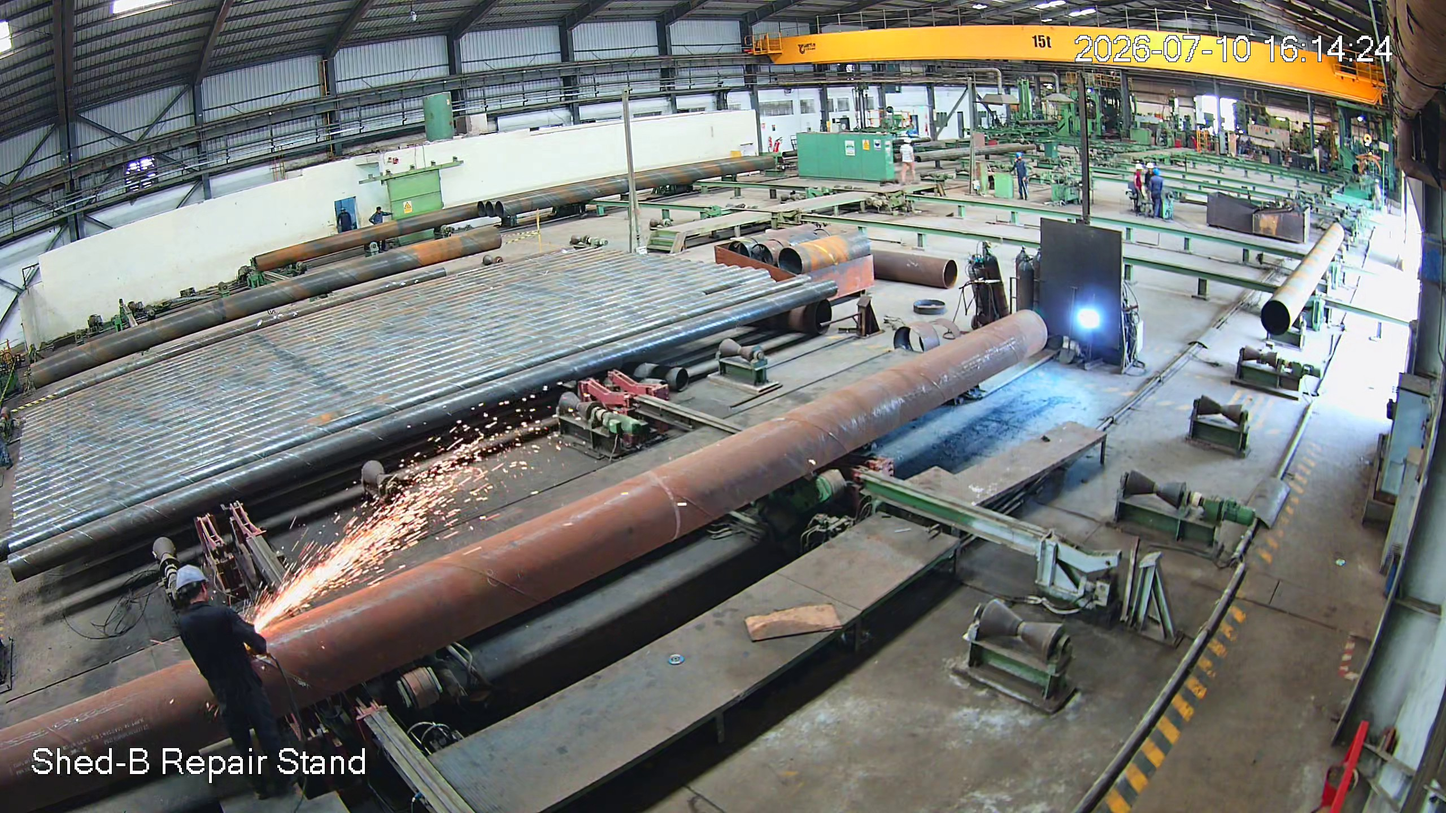Helmet: (161, 554, 225, 615), (1135, 160, 1145, 176), (1152, 166, 1162, 180), (1145, 160, 1154, 174)
Person: (167, 563, 311, 813), (1149, 168, 1163, 217), (1133, 163, 1143, 220), (1145, 160, 1154, 191)
